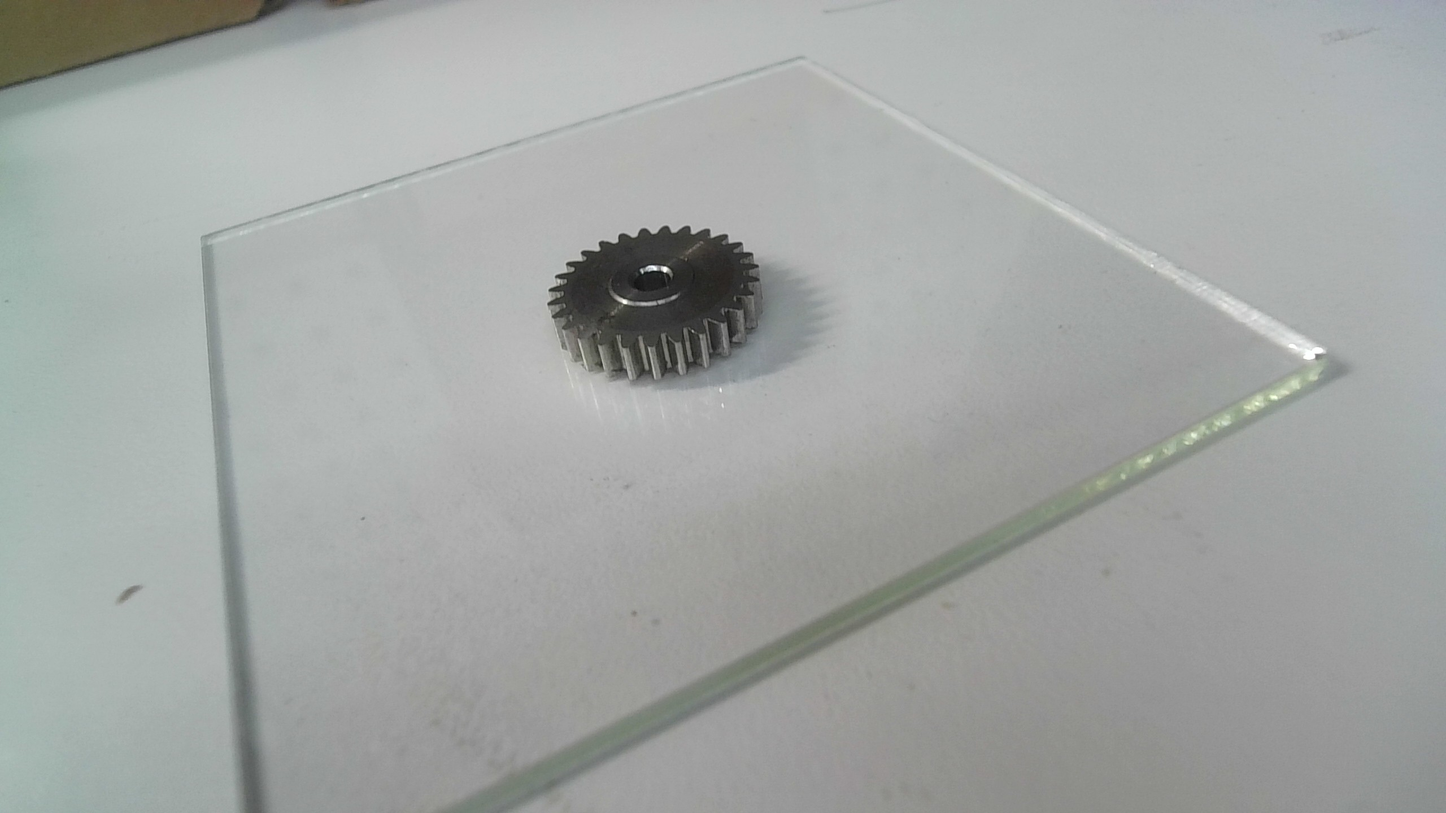gear: (545, 224, 769, 383)
